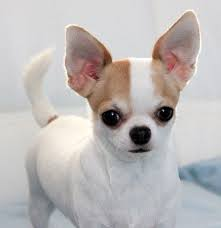chihuahua: (19, 16, 221, 217)
